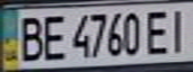0: (121, 8, 145, 56)
4: (66, 10, 90, 60)
6: (106, 9, 127, 57)
7: (87, 10, 109, 57)
B: (15, 11, 45, 63)
E: (36, 11, 69, 62), (142, 7, 175, 56)
I: (163, 4, 193, 54)
